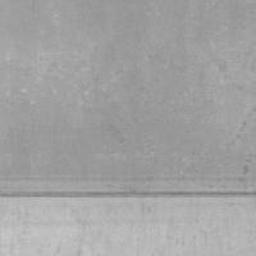Welding line: (0, 189, 256, 198)
